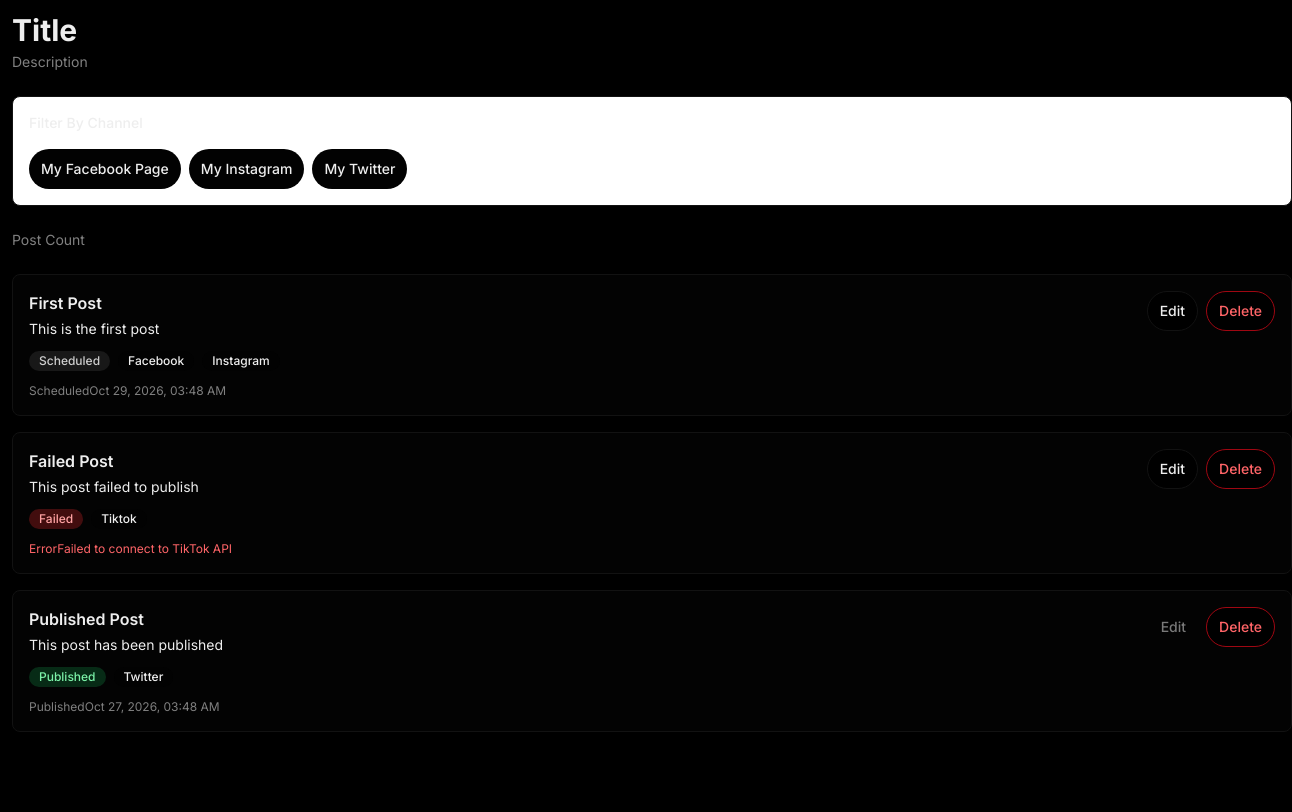
Test: PublishContainer › filters posts by selected channel
Note: Click on Facebook filter
Click the button "My Facebook Page" at (105, 169), box [29,149,181,189]
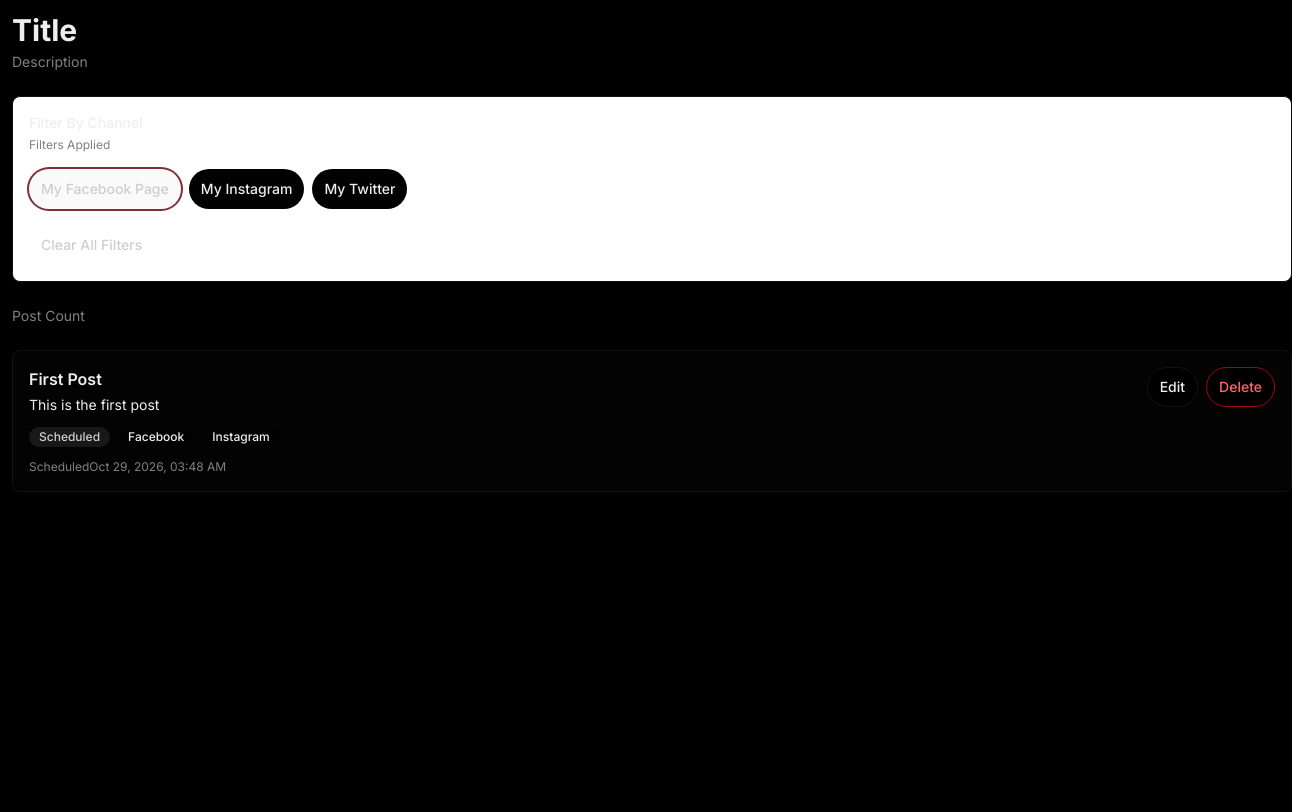
expect the heading "First Post" is shown: met, box [29,369,102,389]
expect the heading "Published Post" is gone: met
expect the heading "Failed Post" is gone: met
